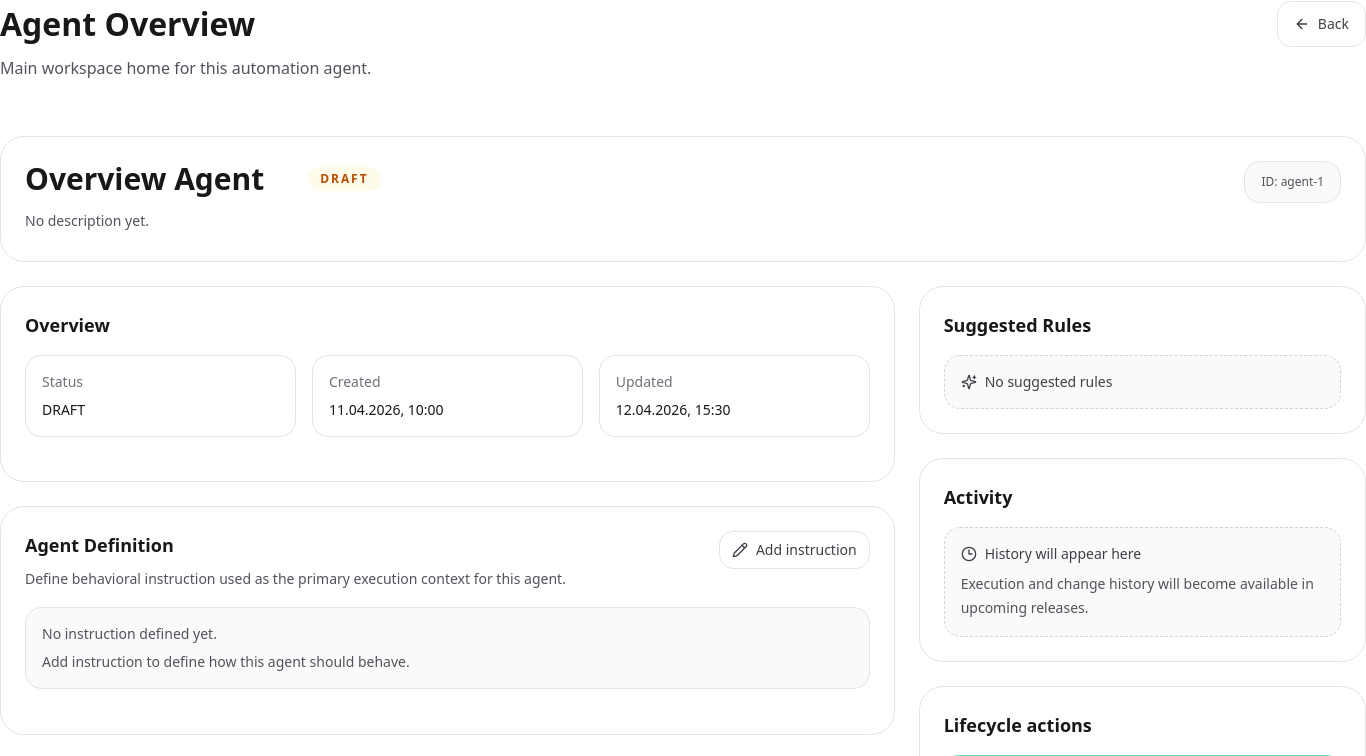
AgentOverviewPage › skips patch when description stays empty after edit
The width and height of the screenshot is (1366, 756).
Expected: the heading "Agent Overview" is shown, [0,0,255,48]
Click the button with aria-label "Edit agent description".
click(87, 221)  # box [25,209,149,233]
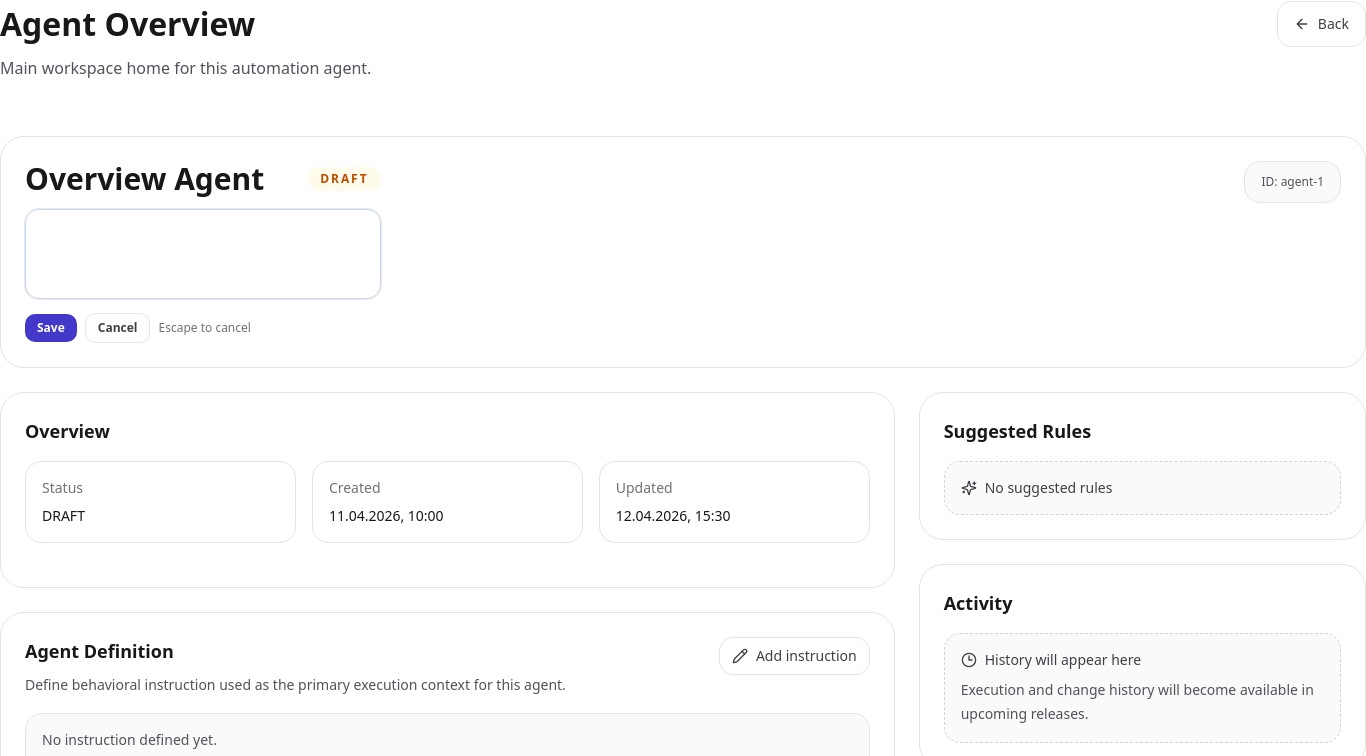
Click the button "Save".
click(51, 328)  # box [25,314,77,342]
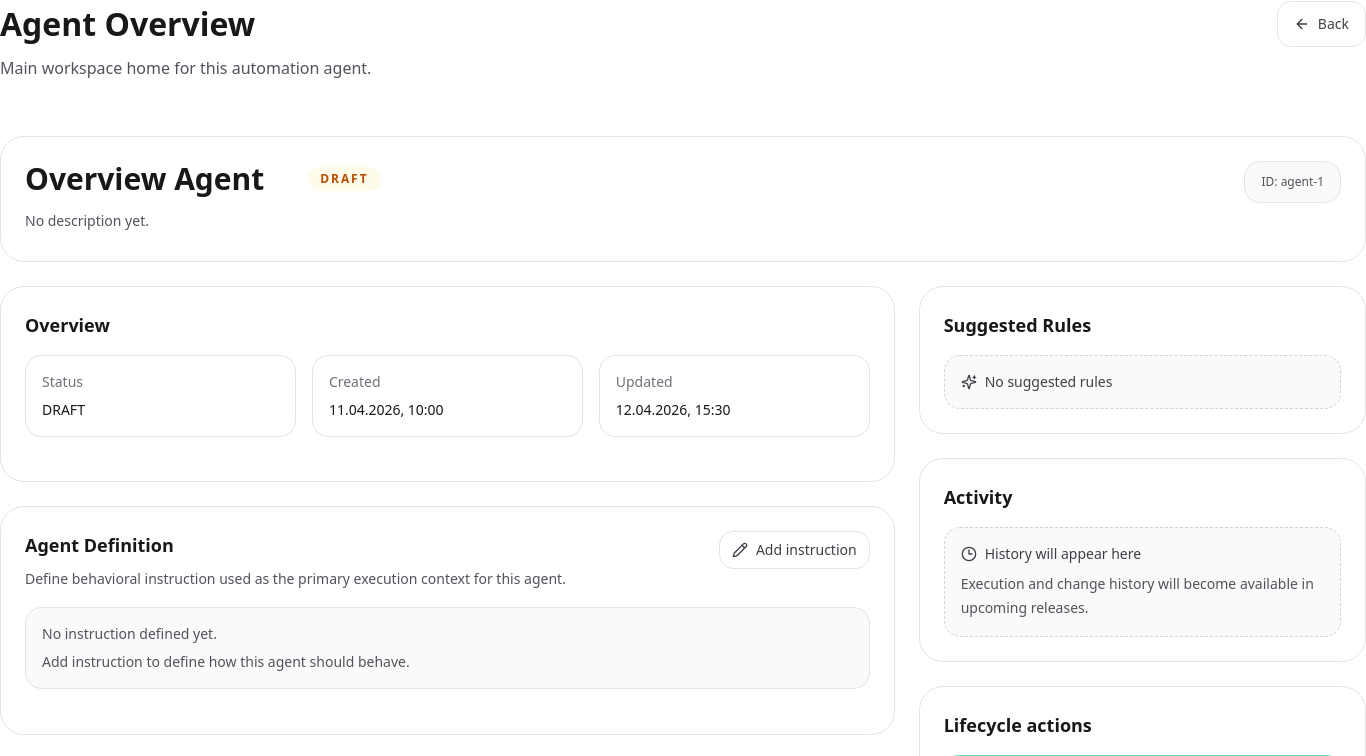
Now the button "No description yet." is shown, box [25,209,149,233]
